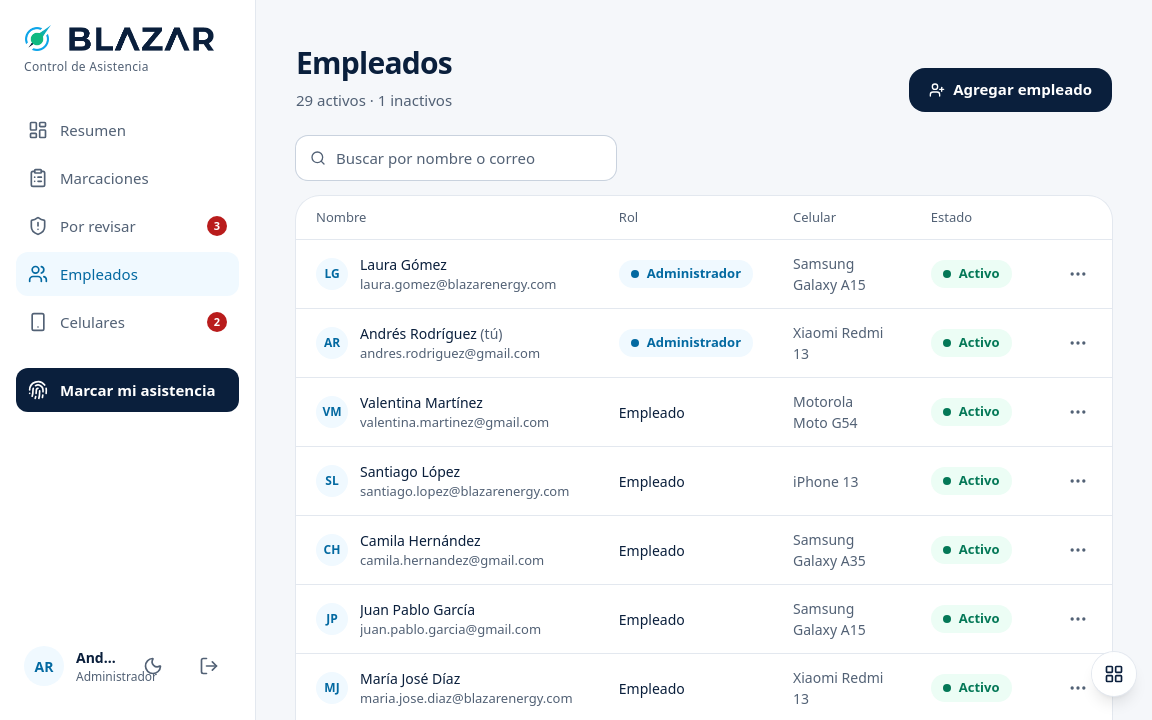
Empleados › agrega un empleado desde el formulario
Expected: the heading "Empleados" is shown, [296,40,452,85]
Expected: the text "29 activos · 1 inactivos" is shown, [296,89,452,112]
Click the button "Agregar empleado" at (1011, 90), box [909,68,1112,112]
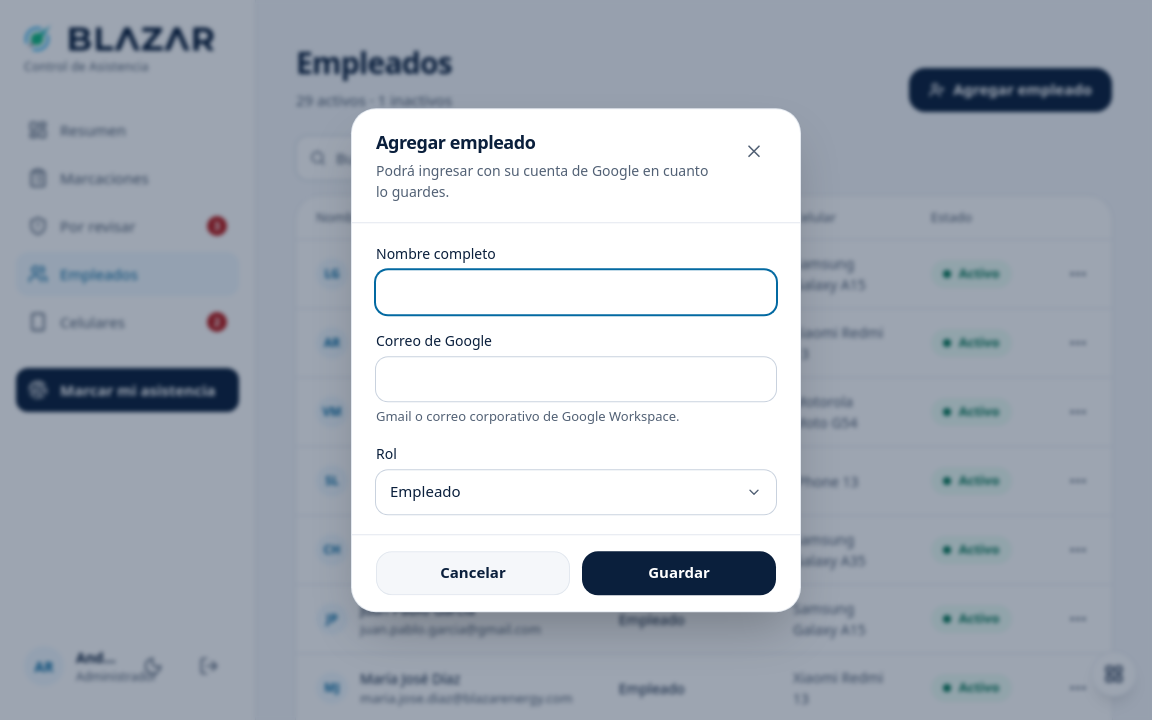
Type "Pedro Sánchez" into the field labelled "Nombre completo" at (576, 292), box [376,270,776,314]
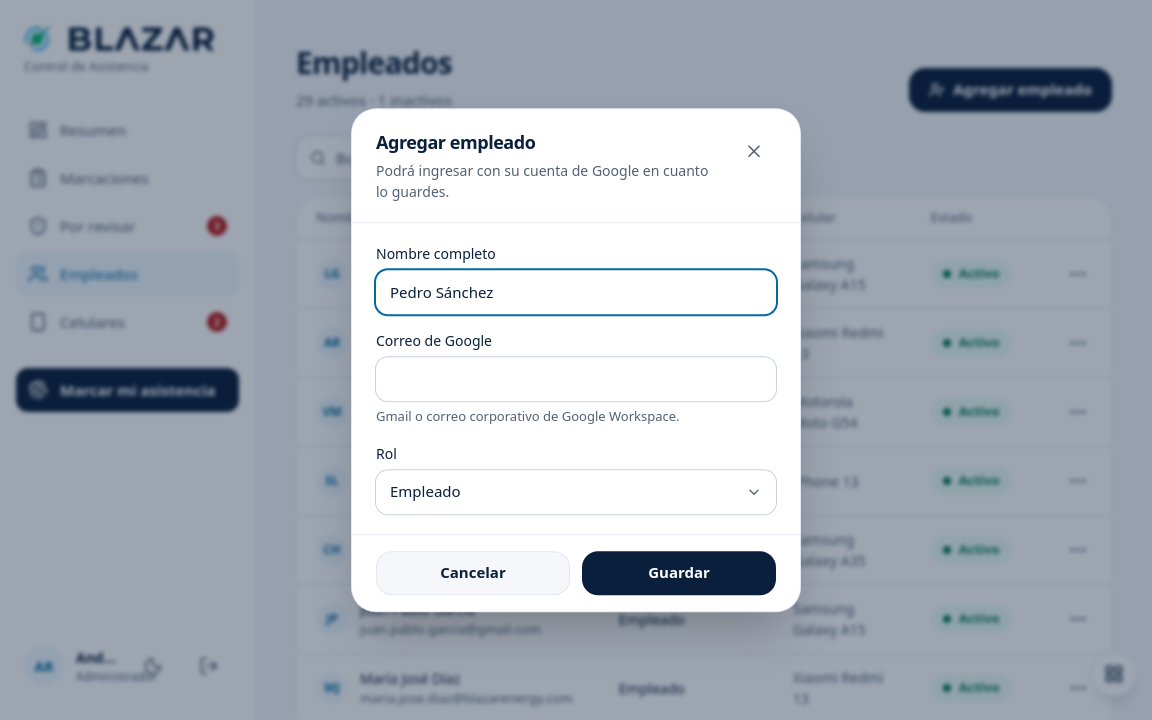
Type "Pedro.Sanchez@gmail.com" into the field labelled "Correo de Google" at (576, 379), box [376,357,776,401]
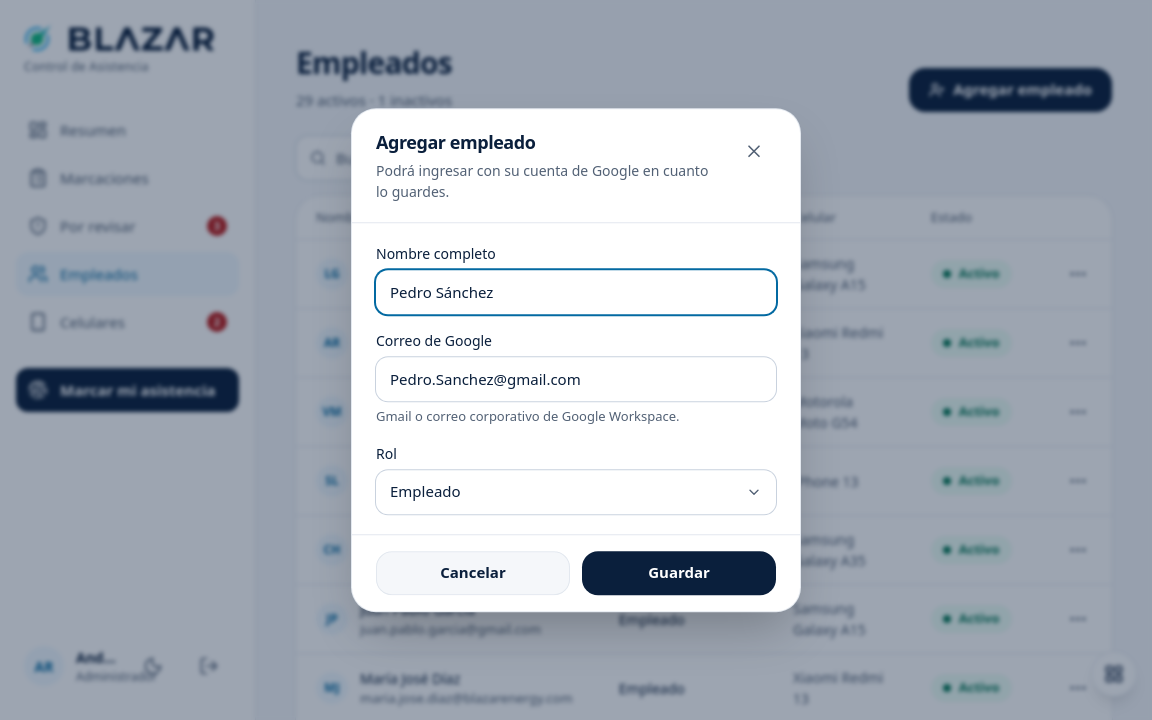
Click the button "Guardar" at (679, 573), box [582,551,776,595]
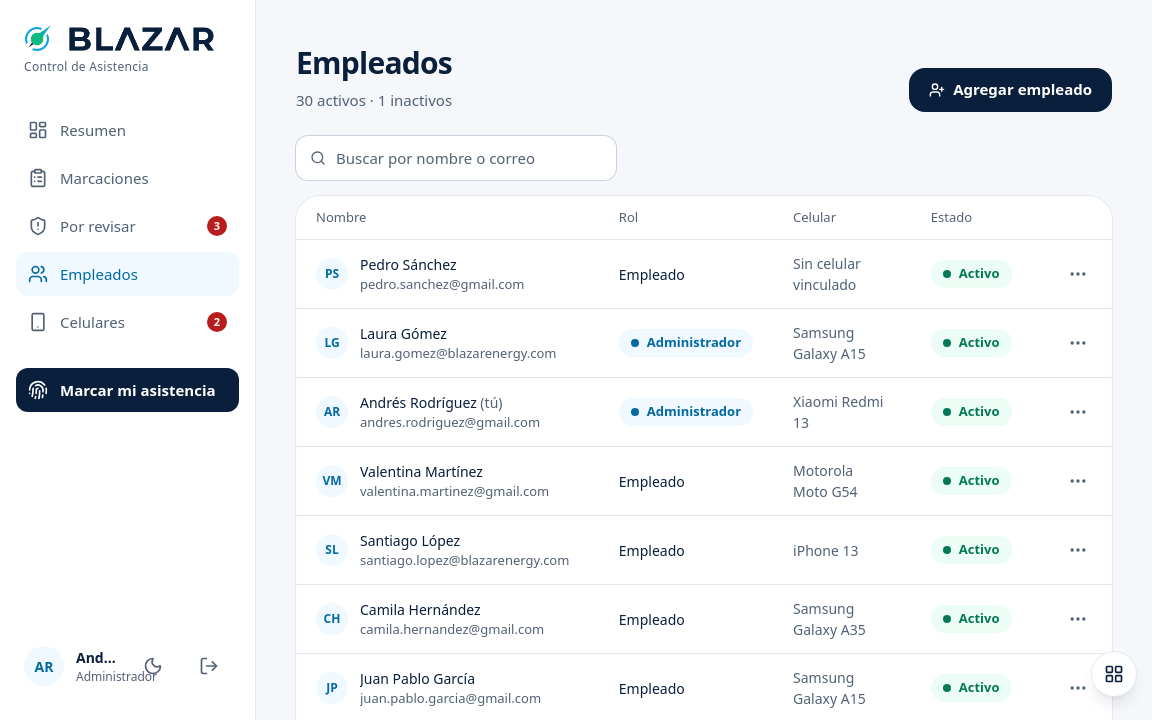
Expected: the text "pedro.sanchez@gmail.com" is shown, [360,275,524,294]
Expected: the text "30 activos · 1 inactivos" is shown, [296,89,452,112]
